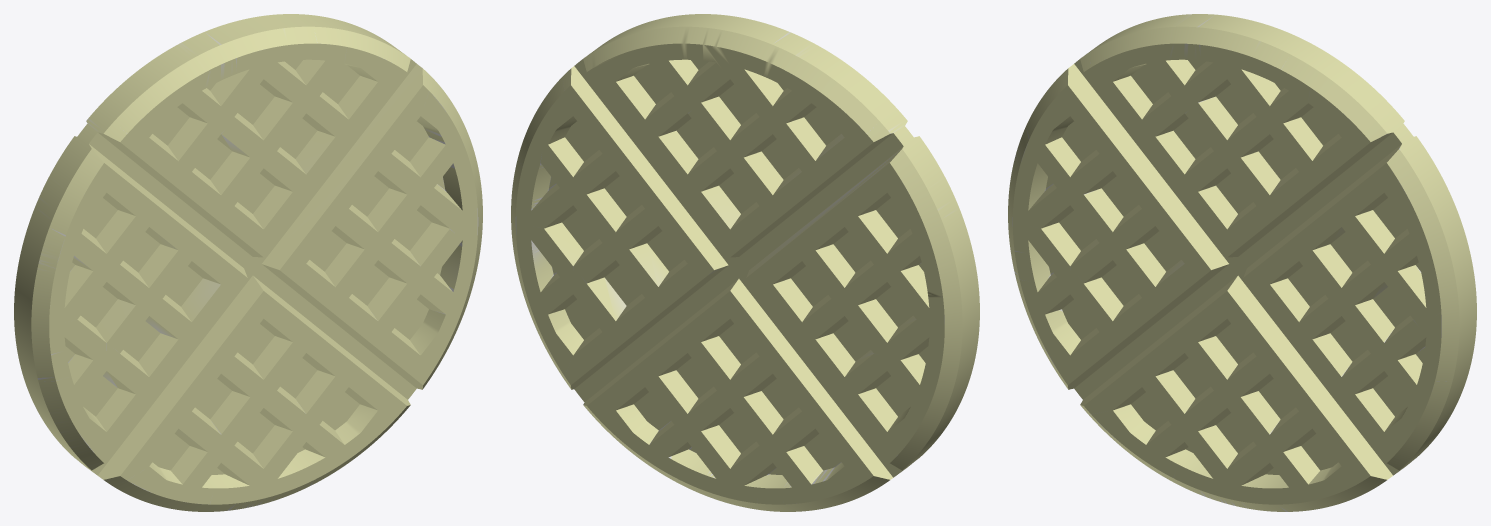
File: waffle2.gltf
3 views of the same model, side by side, from view 1: azimuth 30°, elevation 25°; view 2: azimuth 150°, elevation 25°; view 3: azimuth 330°, elevation 25° (orthographic).
Parts seen in each view (by area): view 1: Waffle; view 2: Waffle; view 3: Waffle.
Part boxes in pixels (x1,y1,x2,y2): Waffle: (14,14,482,511); Waffle: (511,14,979,511); Waffle: (1008,14,1476,511).
Bounding box in the file's own units: 3.39 × 3.39 × 0.3957.
